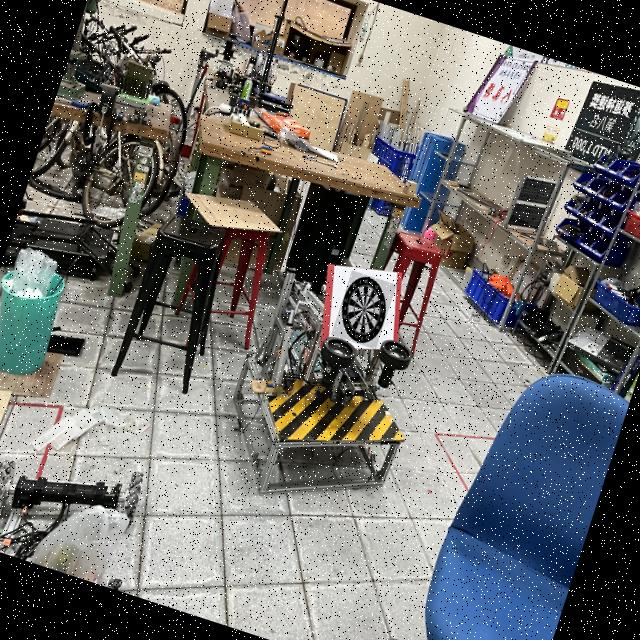archery-targets: (331, 270, 396, 350)
